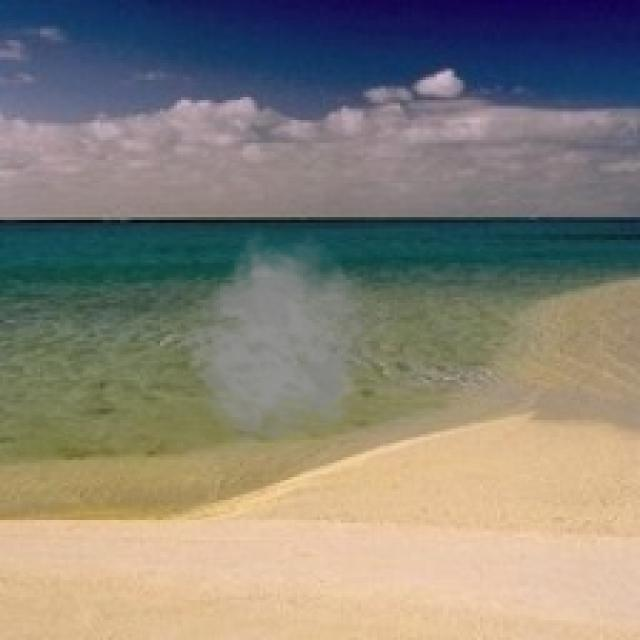Smoke: (182, 228, 392, 452)
